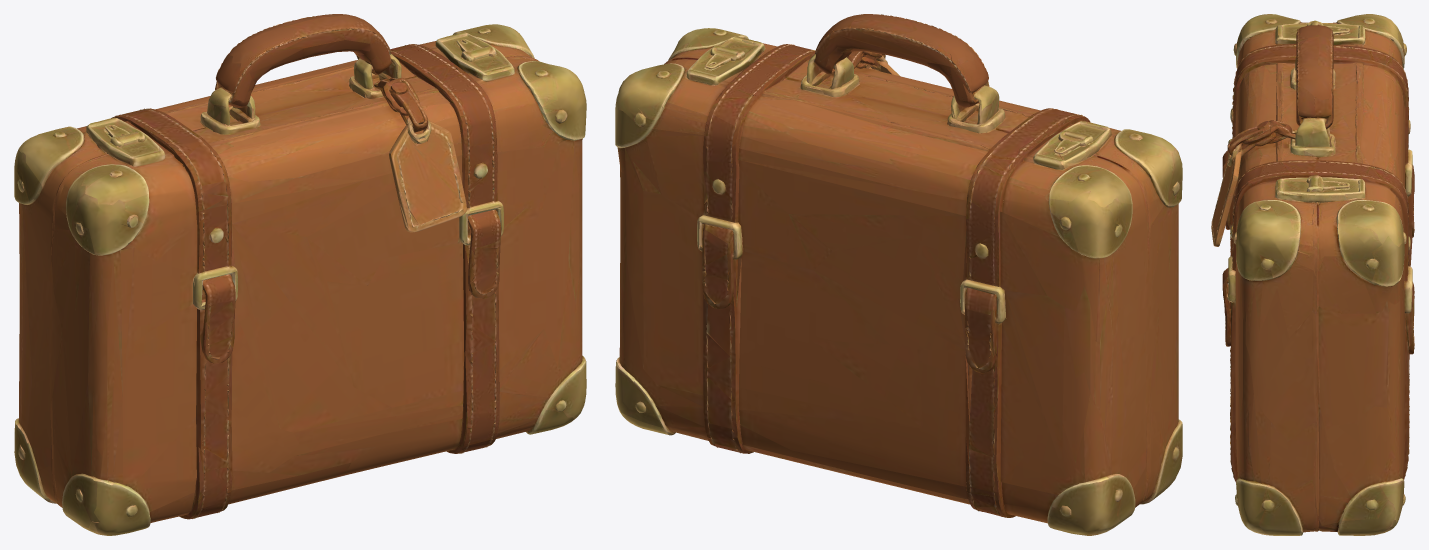
File: suitcase.glb
3 renders of one model, left to right at view 1: azimuth 30°, elevation 25°; view 2: azimuth 150°, elevation 25°; view 3: azimuth 270°, elevation 25°, orthographic. The views are drawn at different scales.
Size of the model in its own units: 1.9 by 1.58 by 0.7364.
Materials: 1 (1 with a texture image).
